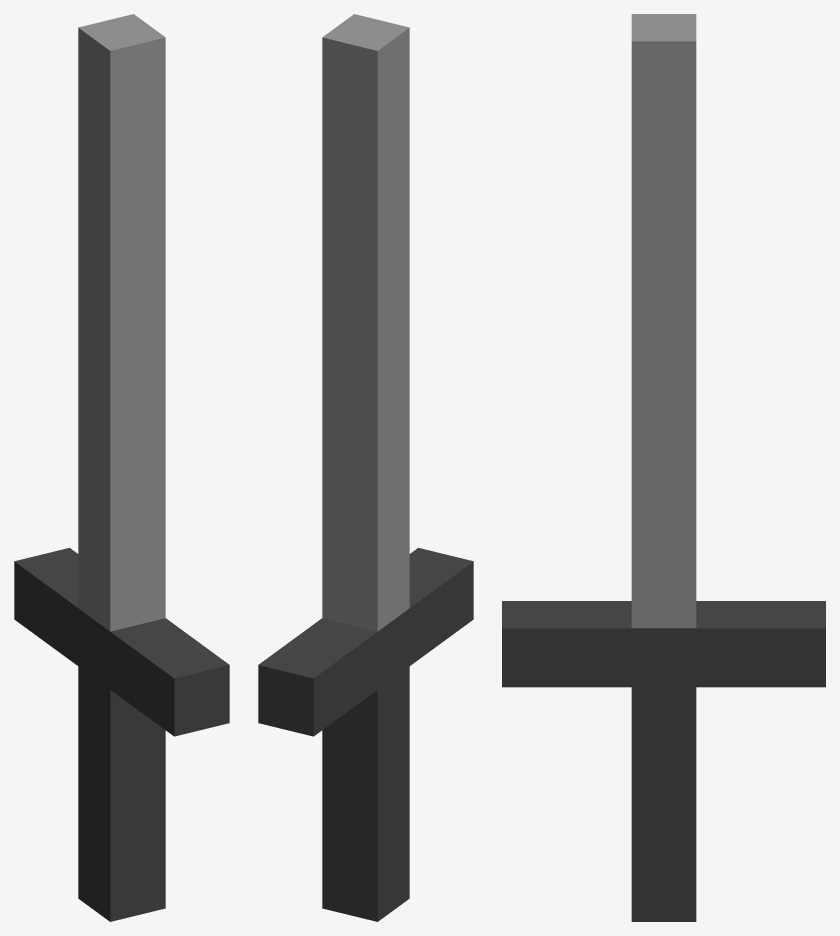
Rendered from sword.gltf.
3 renders of one model, left to right at view 1: azimuth 30°, elevation 25°; view 2: azimuth 150°, elevation 25°; view 3: azimuth 270°, elevation 25°, orthographic.
Visible parts, largest first — view 1: Layer.1; view 2: Layer.1; view 3: Layer.1.
Boxes of the visible parts, box(x1,y1,x2,y2) form: Layer.1: box(14, 14, 229, 921); Layer.1: box(258, 14, 473, 921); Layer.1: box(502, 14, 825, 921).
Bounding box in the file's own units: 1 × 15 × 5.
Materials: 1 (1 with a texture image).
